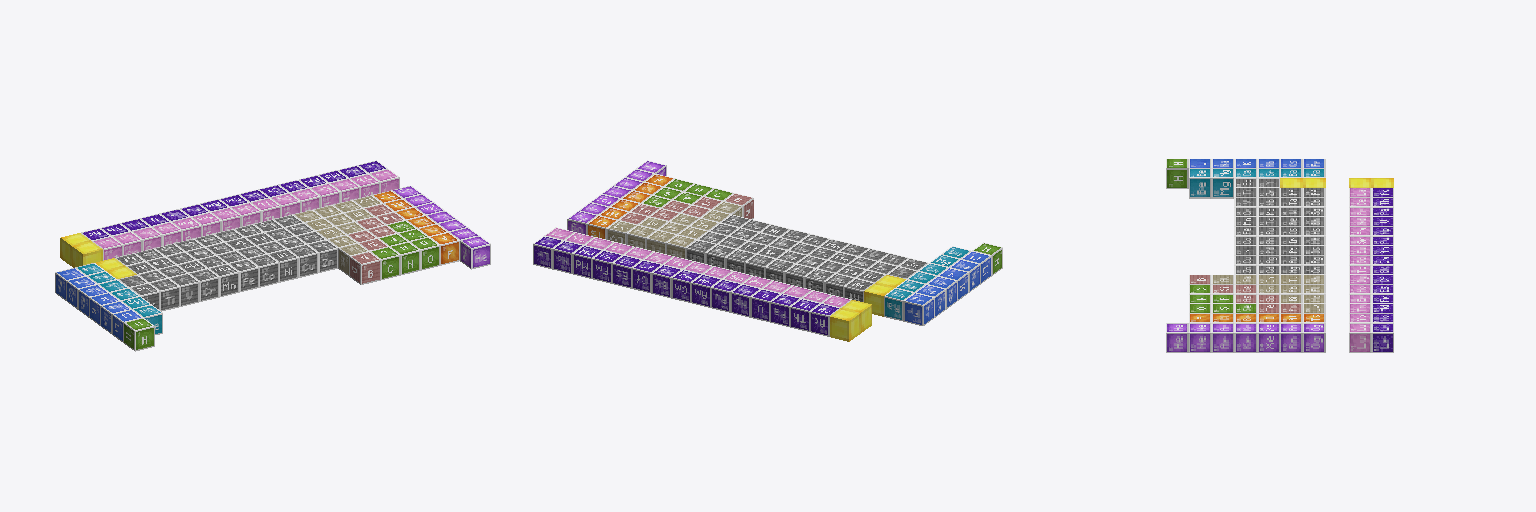
The picture shows the model from 3 angles: view 1: azimuth 30°, elevation 25°; view 2: azimuth 150°, elevation 25°; view 3: azimuth 270°, elevation 25°; orthographic projection.
Visible parts, largest first — view 1: Object.1, Object.2; view 2: Object.1, Object.2; view 3: Object.1, Object.2.
Part boxes in pixels (bbox=[...]): Object.1: bbox=[101, 160, 490, 306]; Object.2: bbox=[55, 228, 179, 351]; Object.1: bbox=[533, 160, 888, 331]; Object.2: bbox=[810, 242, 1002, 341]; Object.1: bbox=[1166, 197, 1393, 352]; Object.2: bbox=[1166, 159, 1393, 198].
Size of the model in its own units: 18000 by 1000 by 10000.
1 materials, 1 textured.